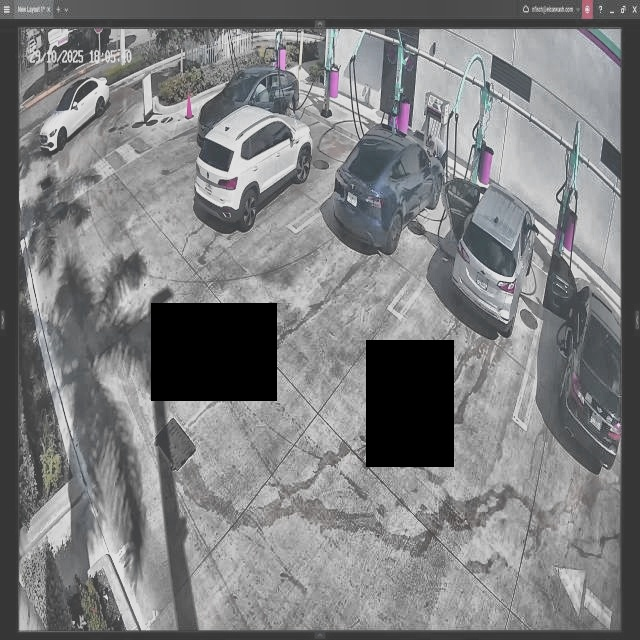Car: (444, 176, 535, 333), (331, 125, 440, 251), (200, 110, 312, 228), (197, 68, 300, 139)
